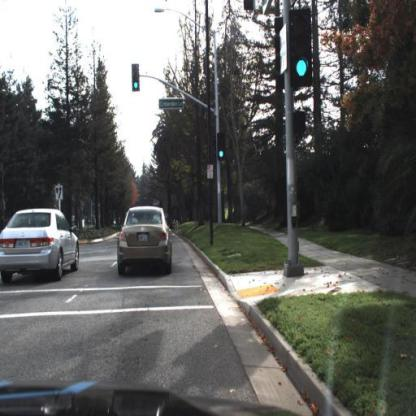car: (1, 206, 80, 282), (118, 205, 173, 278)
trafficLight: (287, 9, 311, 88), (219, 132, 228, 162), (132, 65, 140, 92)
